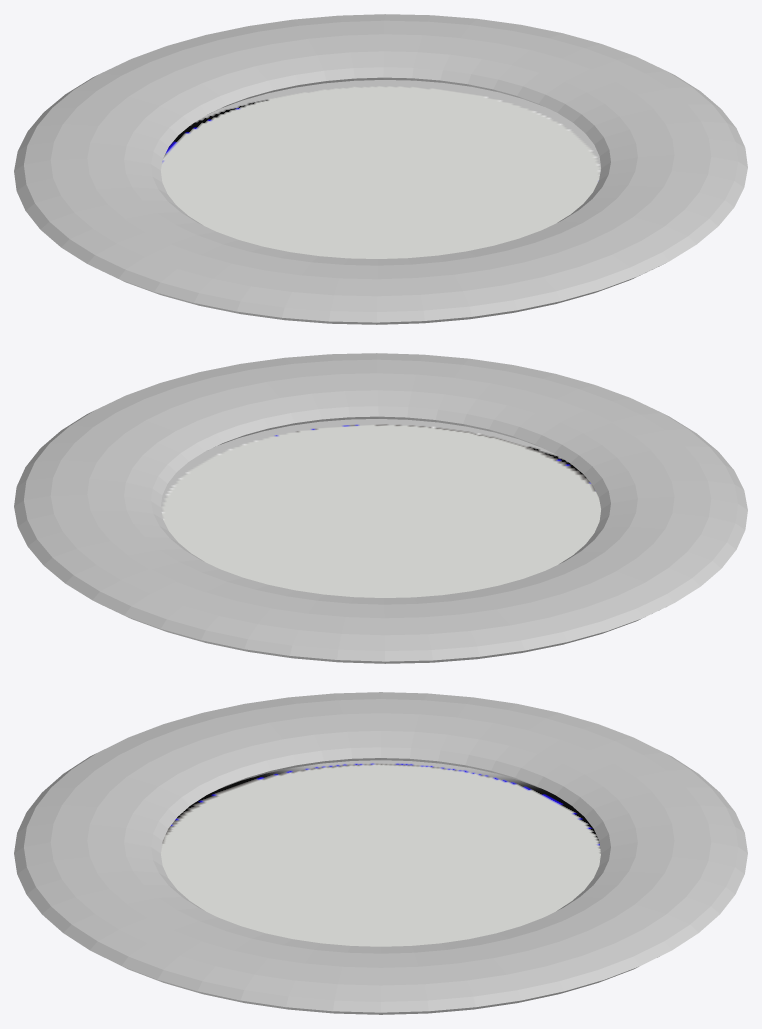
The model's file is talerz.glb.
The picture shows the model from 3 angles, top to bottom: view 1: azimuth 30°, elevation 25°; view 2: azimuth 150°, elevation 25°; view 3: azimuth 270°, elevation 25°; orthographic projection.
Parts seen in each view (by area): view 1: Torus.002; view 2: Torus.002; view 3: Torus.002.
Part boxes in pixels (bbox=[...]): Torus.002: bbox=[14, 14, 747, 324]; Torus.002: bbox=[14, 353, 747, 663]; Torus.002: bbox=[14, 692, 747, 1014].
Bounding box in the file's own units: 3.28 × 0.2002 × 3.19.
2 materials, 2 textured.
